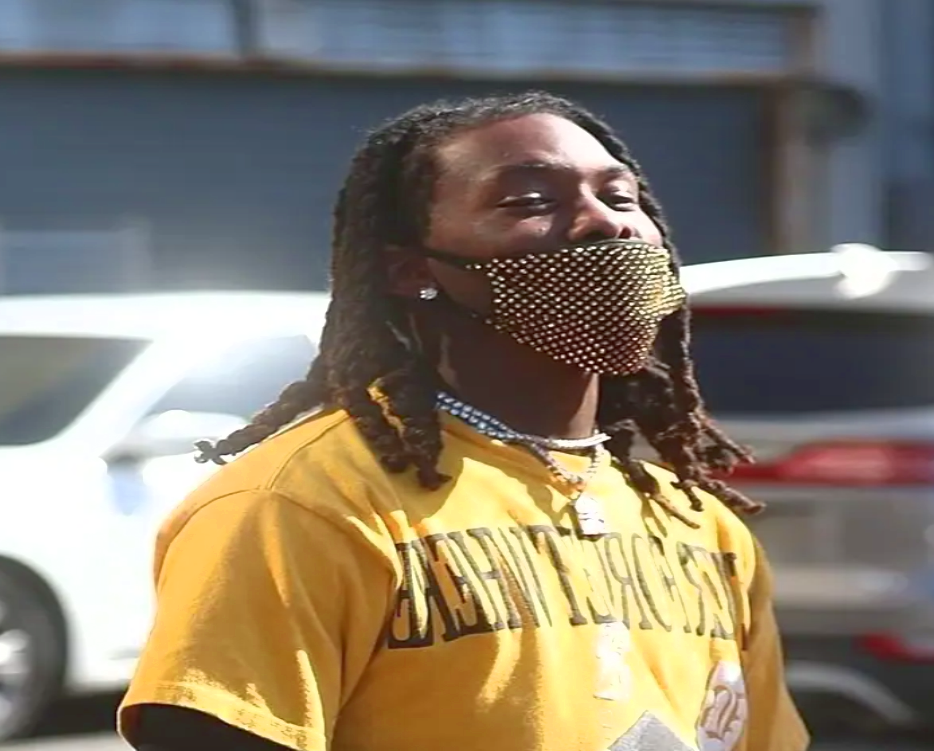mask_weared_incorrect: (337, 90, 692, 377)
